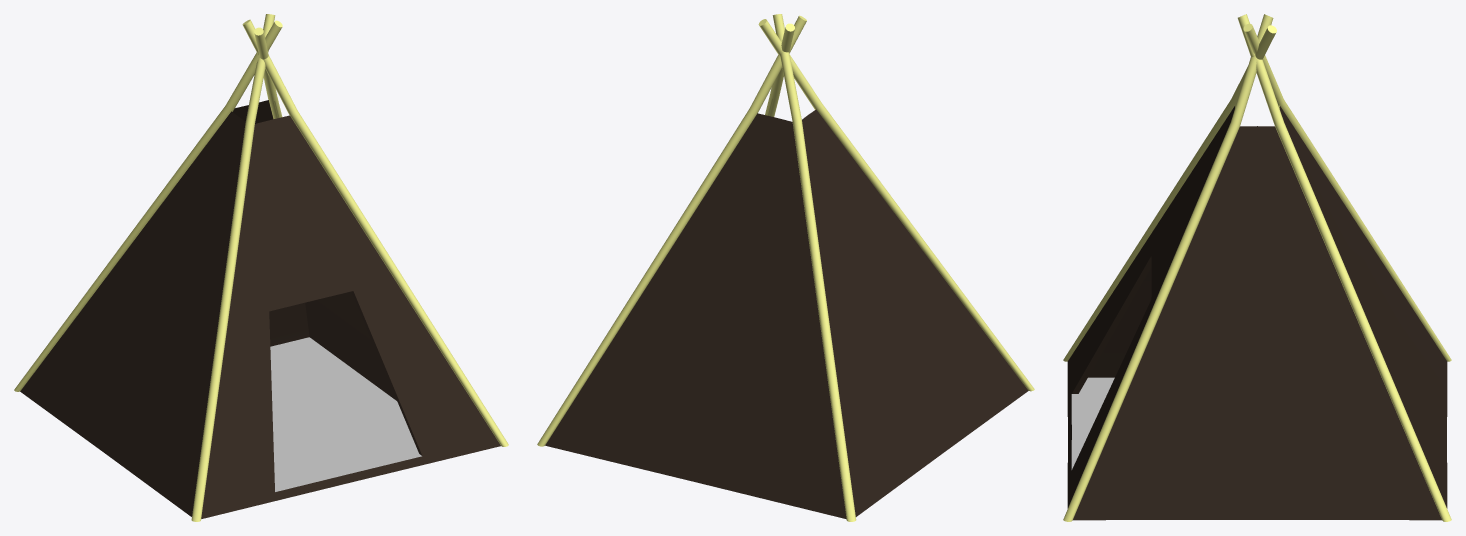
Rendered from MSH_Casa_Ninos.FBX.
The picture shows the model from 3 angles, left to right: view 1: azimuth 30°, elevation 25°; view 2: azimuth 150°, elevation 25°; view 3: azimuth 270°, elevation 25°; orthographic projection. The views are drawn at different scales.
Parts seen in each view (by area): view 1: MSH_Casa_Ninos; view 2: MSH_Casa_Ninos; view 3: MSH_Casa_Ninos.
Part boxes in pixels (x1,y1,x2,y2): MSH_Casa_Ninos: [14, 14, 508, 521]; MSH_Casa_Ninos: [537, 14, 1034, 521]; MSH_Casa_Ninos: [1063, 14, 1451, 521].
Size of the model in its own units: 133 by 159 by 133.
